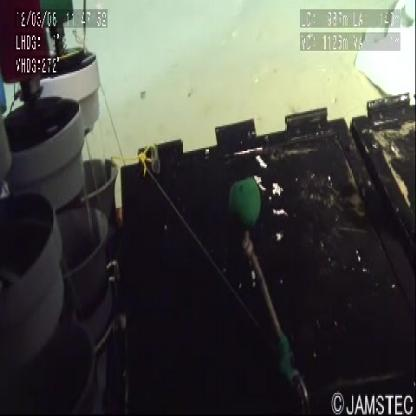Rov: (1, 1, 416, 416)
Rác: (347, 1, 416, 101)
